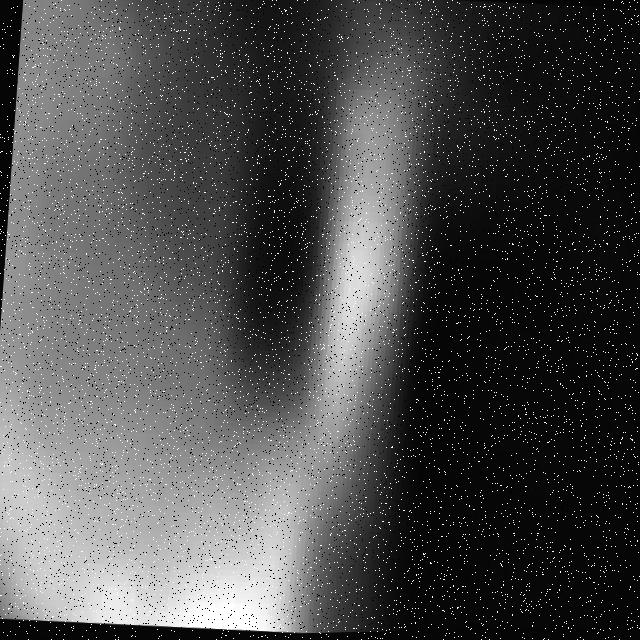person: (1, 1, 439, 640)
